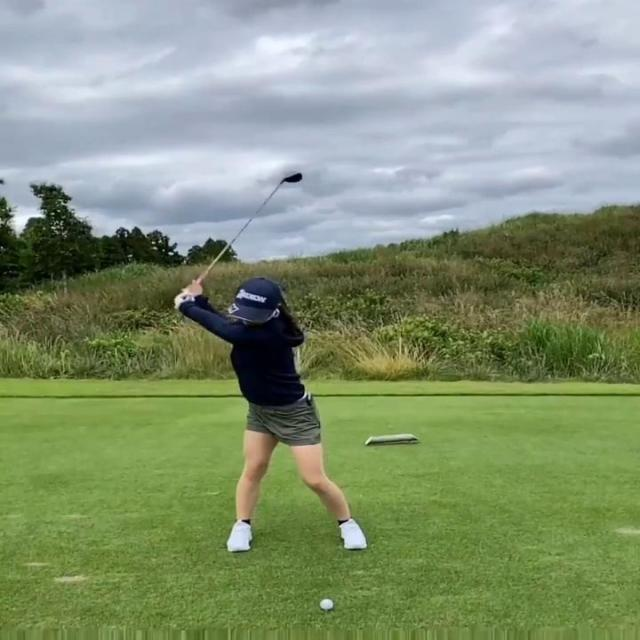ClubHandle: (196, 171, 304, 285)
ClubHead: (282, 172, 303, 185)
GolfBall: (319, 597, 335, 611)
